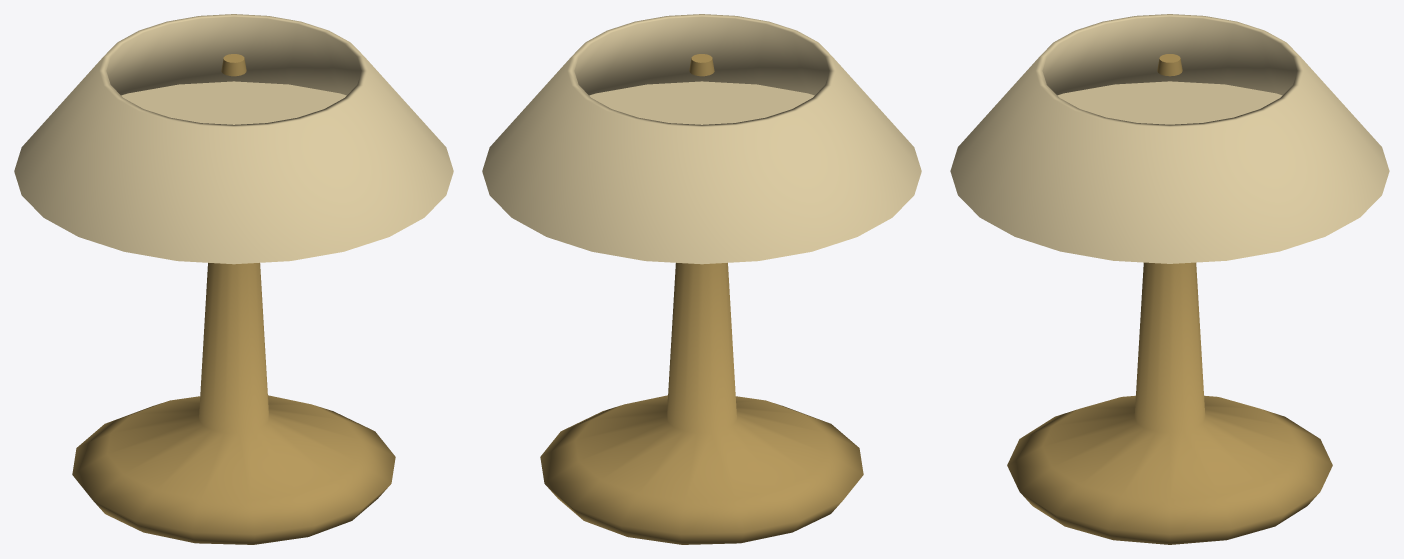
The model's file is rpg-mansion-table-lamp-01.glb.
3 renders of one model, left to right at view 1: azimuth 30°, elevation 25°; view 2: azimuth 150°, elevation 25°; view 3: azimuth 270°, elevation 25°, orthographic.
Parts seen in each view (by area): view 1: rpg-mansion-table-lamp-01; view 2: rpg-mansion-table-lamp-01; view 3: rpg-mansion-table-lamp-01.
Boxes of the visible parts, x1,y1,x2,y2 form: rpg-mansion-table-lamp-01: (14,14,453,544); rpg-mansion-table-lamp-01: (482,14,921,544); rpg-mansion-table-lamp-01: (950,14,1389,544).
Size of the model in its own units: 0.62 by 0.66 by 0.62.
